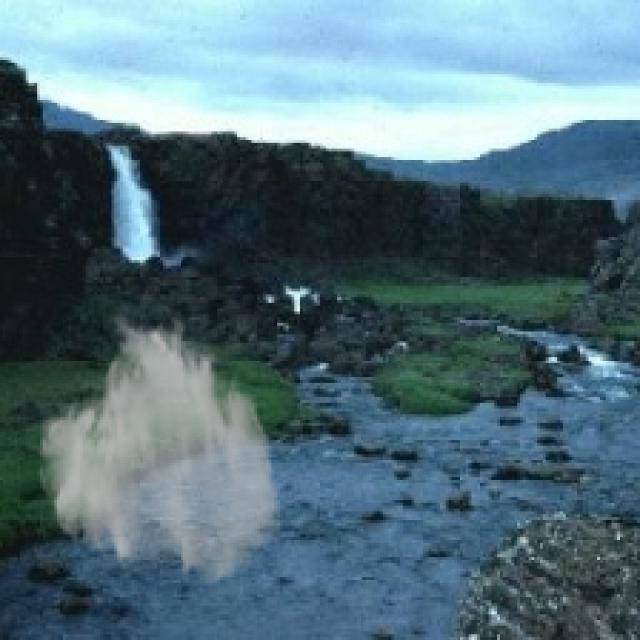smoke: (34, 308, 283, 588)
